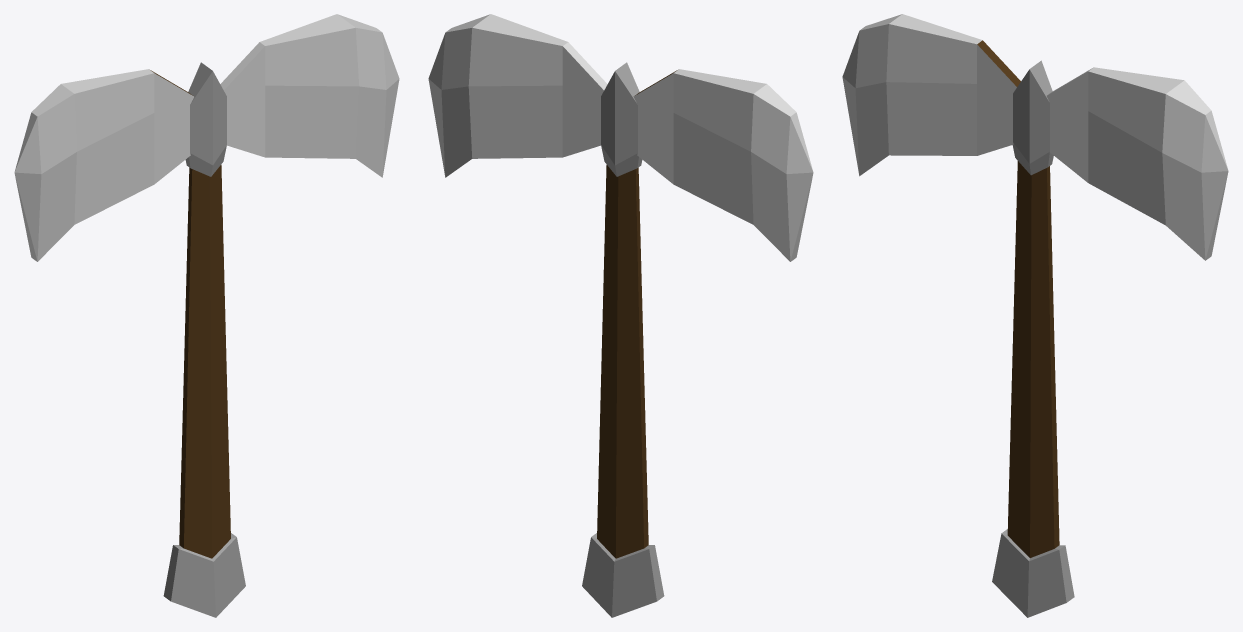
Rendered from axe.fbx.
3 views of the same model, side by side, from view 1: azimuth 30°, elevation 25°; view 2: azimuth 150°, elevation 25°; view 3: azimuth 330°, elevation 25° (orthographic).
Parts seen in each view (by area): view 1: Cube; view 2: Cube; view 3: Cube.
Boxes of the visible parts, box(x1,y1,x2,y2) form: Cube: box(14, 14, 399, 617); Cube: box(428, 14, 813, 617); Cube: box(842, 14, 1228, 617).
Bounding box in the file's own units: 1628 × 2250 × 189.
